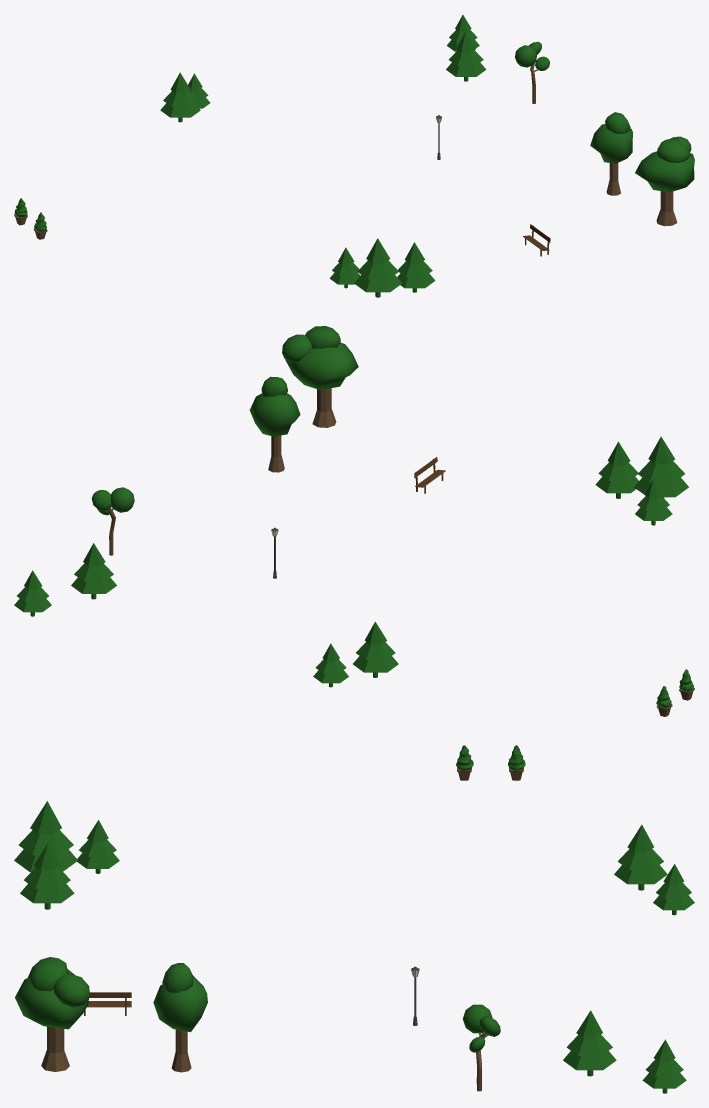
Rendered from level_ustu (1).fbx.
3 renders of one model, top to bottom at view 1: azimuth 30°, elevation 25°; view 2: azimuth 150°, elevation 25°; view 3: azimuth 270°, elevation 25°, orthographic. The views are drawn at different scales.
Parts seen in each view (by area): view 1: çam, Cylinder.020_lowpolytex_0, Cylinder.003_lowpolytex_0, Cylinder.005_lowpolytex_0, piante.002_vasi.002_0; view 2: çam, Cylinder.020_lowpolytex_0, Cylinder.003_lowpolytex_0, Cylinder.005_lowpolytex_0, piante.002_vasi.002_0; view 3: çam, Cylinder.020_lowpolytex_0, Cylinder.003_lowpolytex_0, Cylinder.005_lowpolytex_0, piante.002_vasi.002_0, bank.
Part boxes in pixels (x1=…): çam: x1=160, y1=15, x2=486, y2=297; Cylinder.020_lowpolytex_0: x1=635, y1=136, x2=694, y2=226; Cylinder.003_lowpolytex_0: x1=590, y1=112, x2=632, y2=195; Cylinder.005_lowpolytex_0: x1=515, y1=41, x2=549, y2=103; piante.002_vasi.002_0: x1=14, y1=198, x2=47, y2=239; çam: x1=14, y1=436, x2=688, y2=687; Cylinder.020_lowpolytex_0: x1=282, y1=326, x2=358, y2=427; Cylinder.003_lowpolytex_0: x1=249, y1=376, x2=300, y2=472; Cylinder.005_lowpolytex_0: x1=91, y1=487, x2=134, y2=555; piante.002_vasi.002_0: x1=656, y1=669, x2=694, y2=716; çam: x1=14, y1=801, x2=694, y2=1093; Cylinder.020_lowpolytex_0: x1=15, y1=957, x2=89, y2=1071; Cylinder.003_lowpolytex_0: x1=153, y1=963, x2=207, y2=1072; Cylinder.005_lowpolytex_0: x1=463, y1=1004, x2=500, y2=1091; piante.002_vasi.002_0: x1=456, y1=745, x2=525, y2=780; bank: x1=84, y1=992, x2=131, y2=1015.
Size of the model in its own units: 3236 by 569 by 2775.
